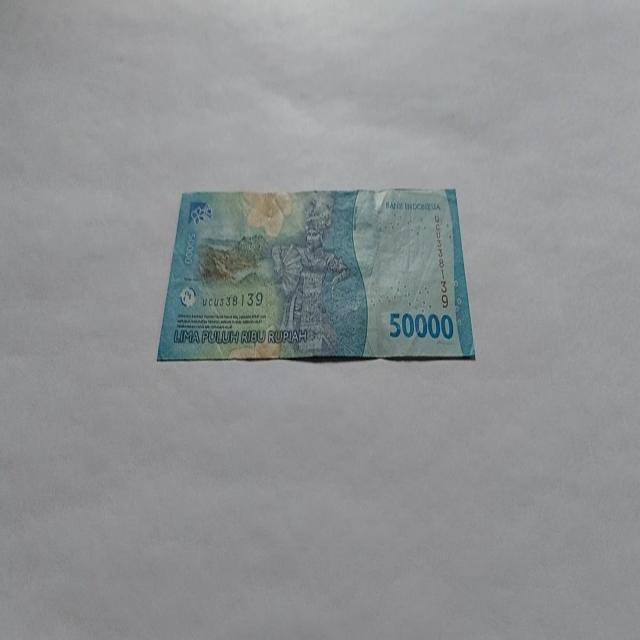lima puluh ribu rupiah: (156, 184, 477, 363)
